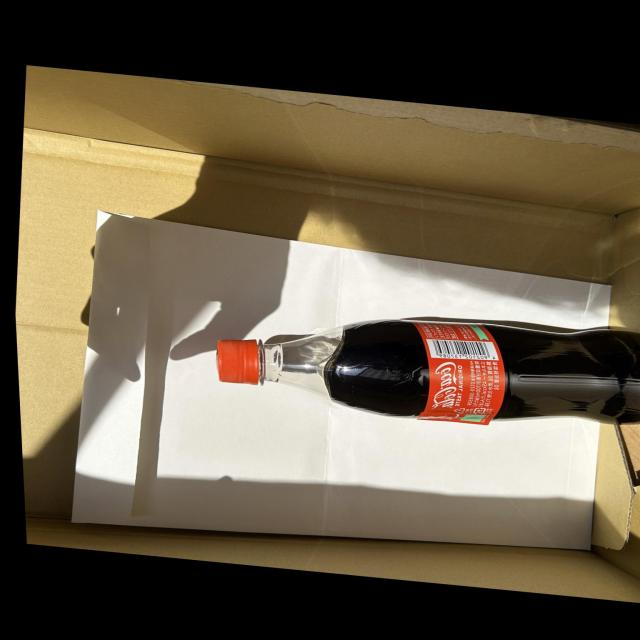high: (217, 319, 640, 426)
